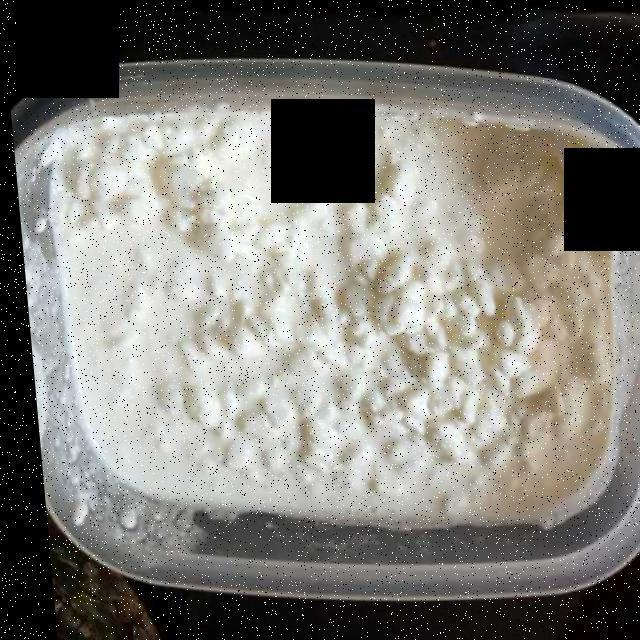cheese: (48, 113, 627, 527)
